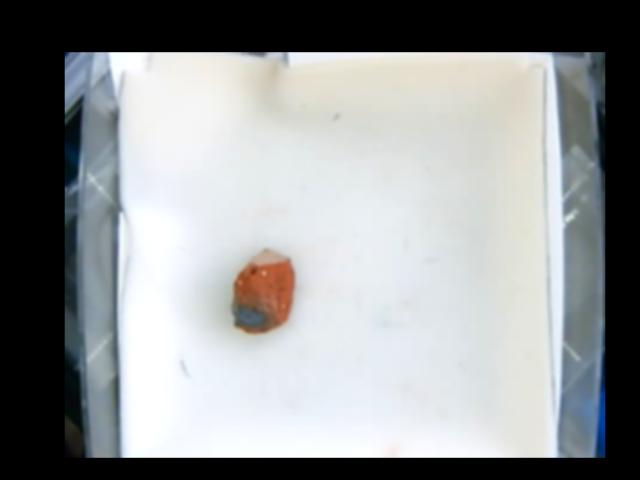Brisk: (231, 247, 293, 333)
